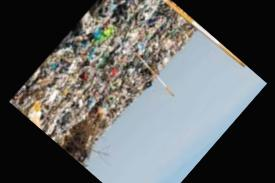Trash: (8, 0, 208, 170)
